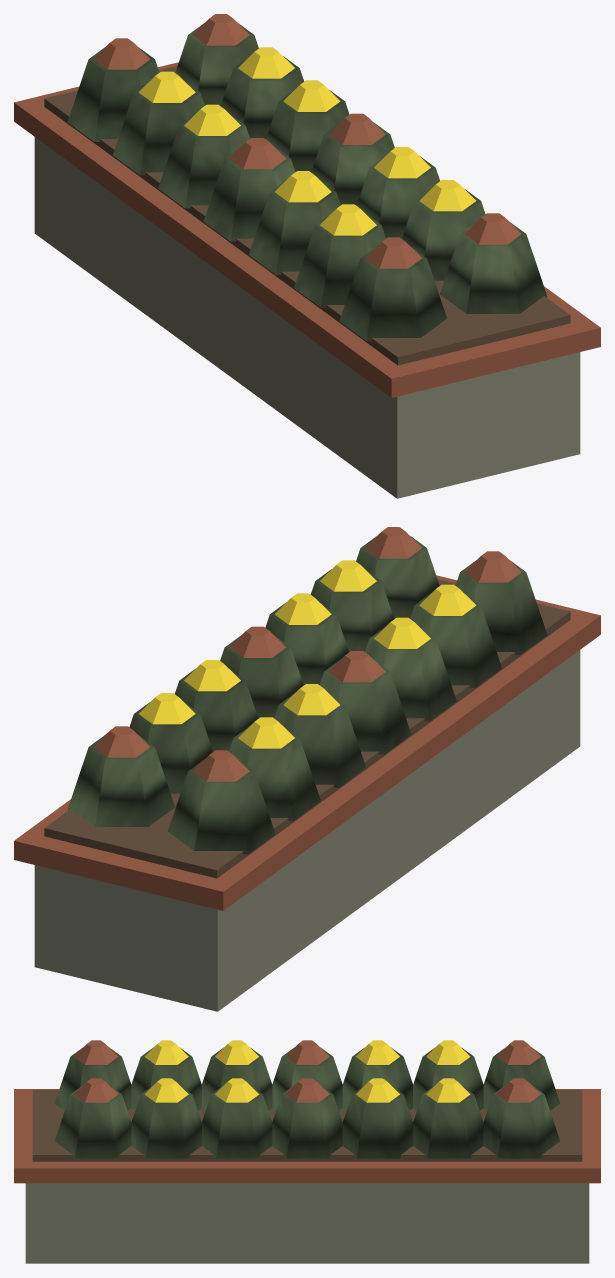
The model's file is planter.fbx.
3 renders of one model, top to bottom at view 1: azimuth 30°, elevation 25°; view 2: azimuth 150°, elevation 25°; view 3: azimuth 270°, elevation 25°, orthographic. The views are drawn at different scales.
Visible parts, largest first — view 1: planter.002; view 2: planter.002; view 3: planter.002.
Boxes of the visible parts, x1,y1,x2,y2 form: planter.002: (14,14,600,498); planter.002: (14,527,600,1011); planter.002: (14,1040,600,1263).
Bounding box in the file's own units: 0.8 × 0.78 × 2.5.
